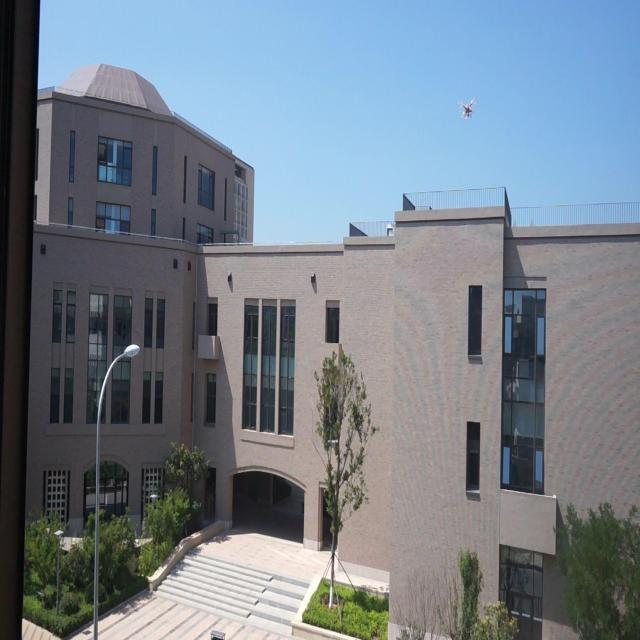UAV: (458, 96, 477, 120)
